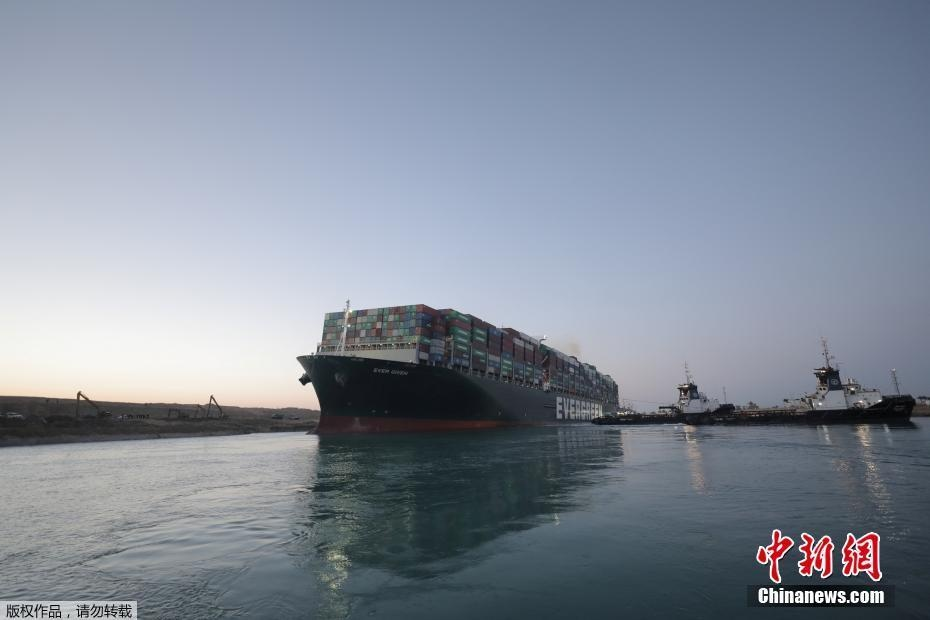Cargoship: (281, 296, 620, 441)
otherboat: (746, 341, 911, 435), (600, 370, 739, 435)
